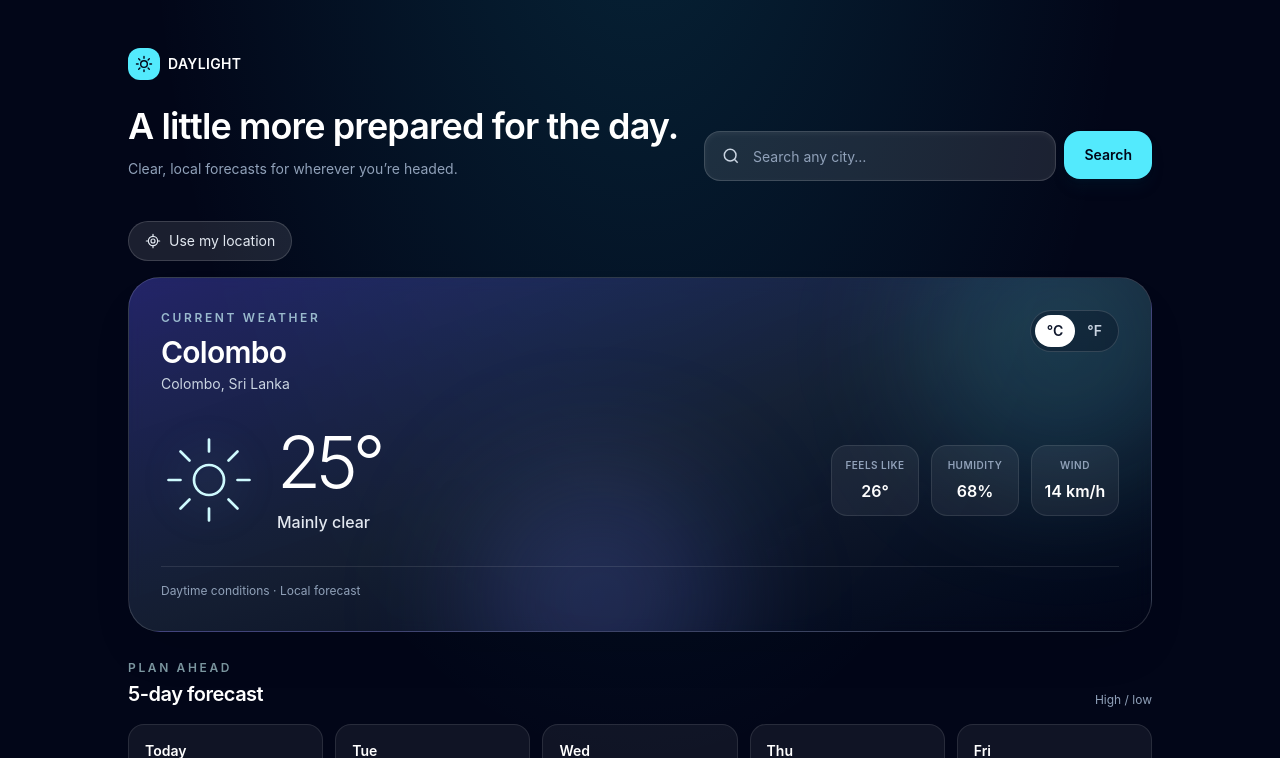
it: use my location › loads the forecast for the browser location
The image size is (1280, 758).
Expected: the heading "Colombo" is shown, [161,334,286,370]
Click the button "Use my location" at (210, 241), box [128,221,292,261]
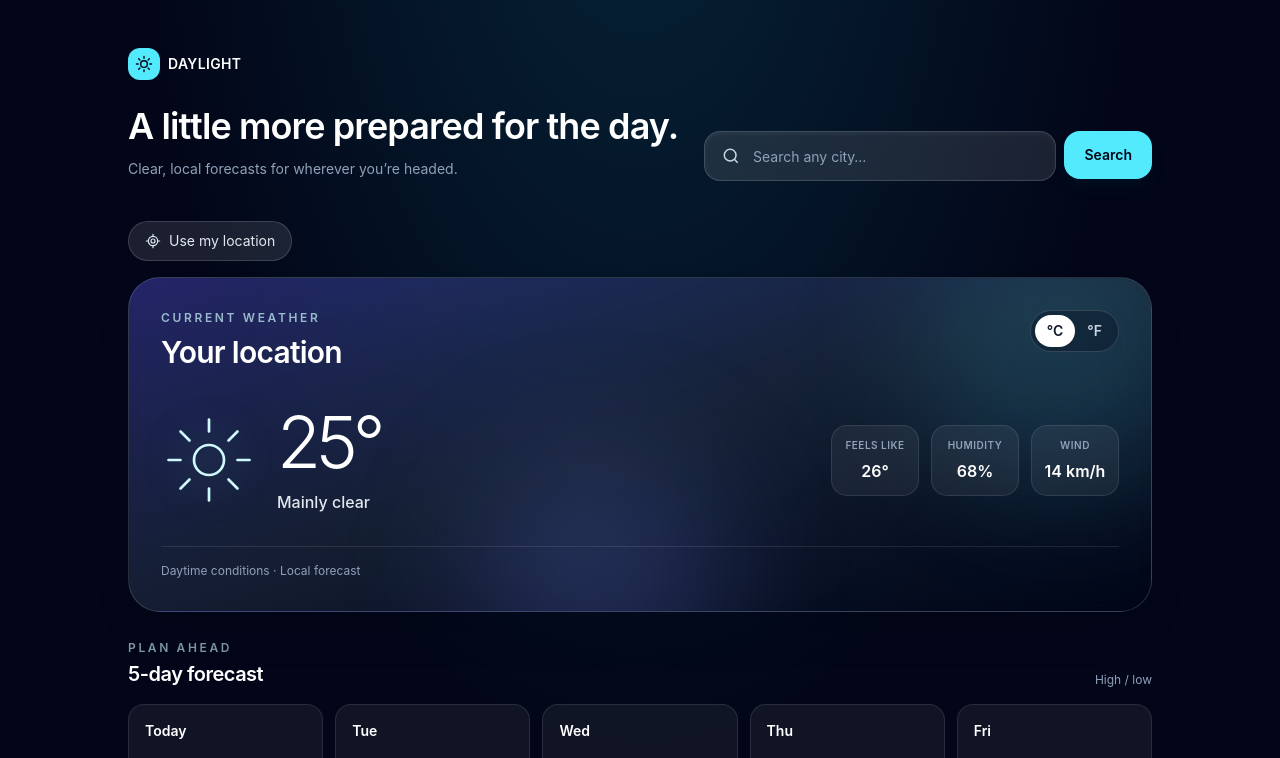
Now the heading "Your location" is shown, box [161,334,342,370]
